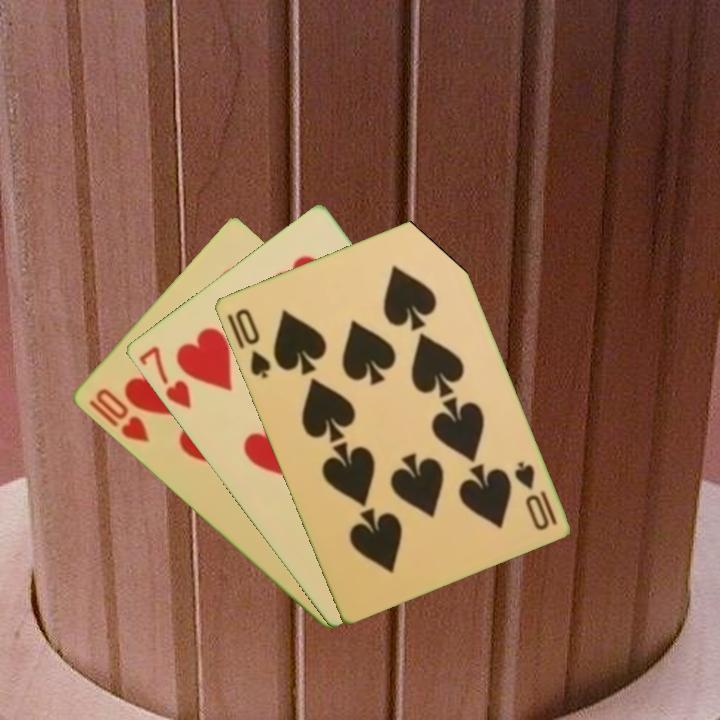10h: (91, 384, 152, 446)
10s: (510, 458, 559, 533), (231, 305, 273, 382)
7h: (135, 342, 194, 412)
